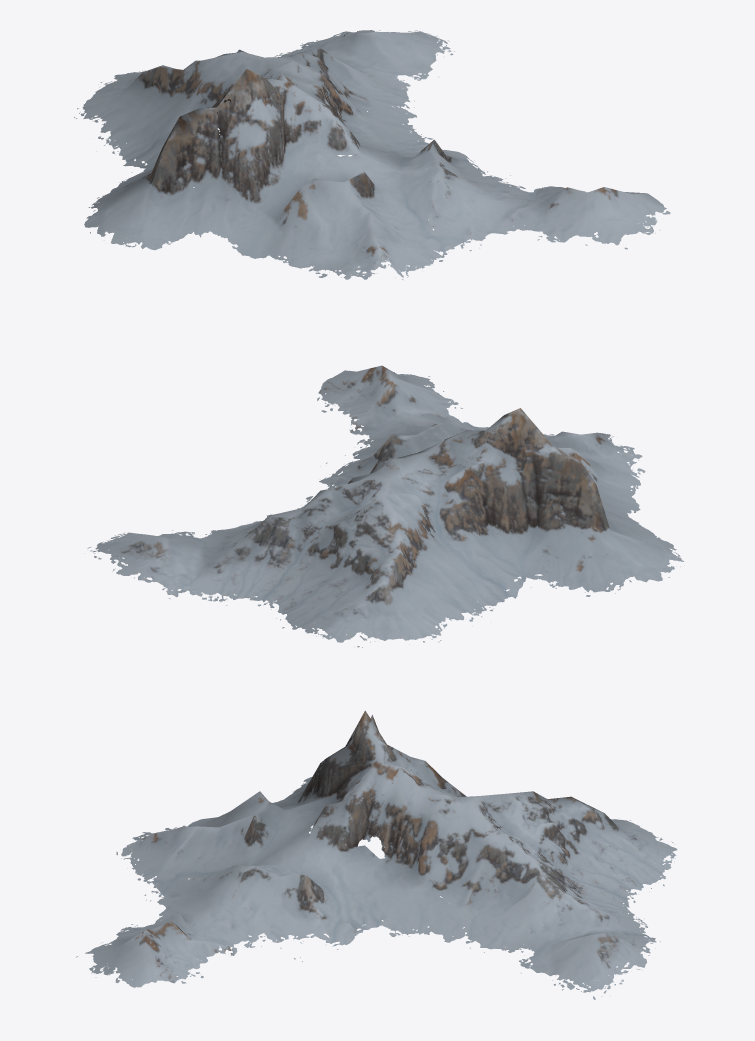
Rendered from Env_Map_Mt_North_3H_2W_A01.fbx.
3 views of the same model, one above another, from view 1: azimuth 30°, elevation 25°; view 2: azimuth 150°, elevation 25°; view 3: azimuth 270°, elevation 25° (orthographic).
Visible parts, largest first — view 1: Mt_North_3H_2W_A01; view 2: Mt_North_3H_2W_A01; view 3: Mt_North_3H_2W_A01.
Boxes of the visible parts, left/top/right/bottom form: Mt_North_3H_2W_A01: left=74, top=30, right=670, bottom=280; Mt_North_3H_2W_A01: left=84, top=365, right=684, bottom=647; Mt_North_3H_2W_A01: left=76, top=710, right=677, bottom=999.
Size of the model in its own units: 250 by 62.68 by 289.
1 material, 1 textured.
